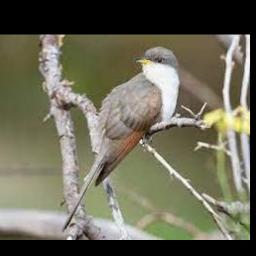Cuckoo: (62, 46, 180, 231)
